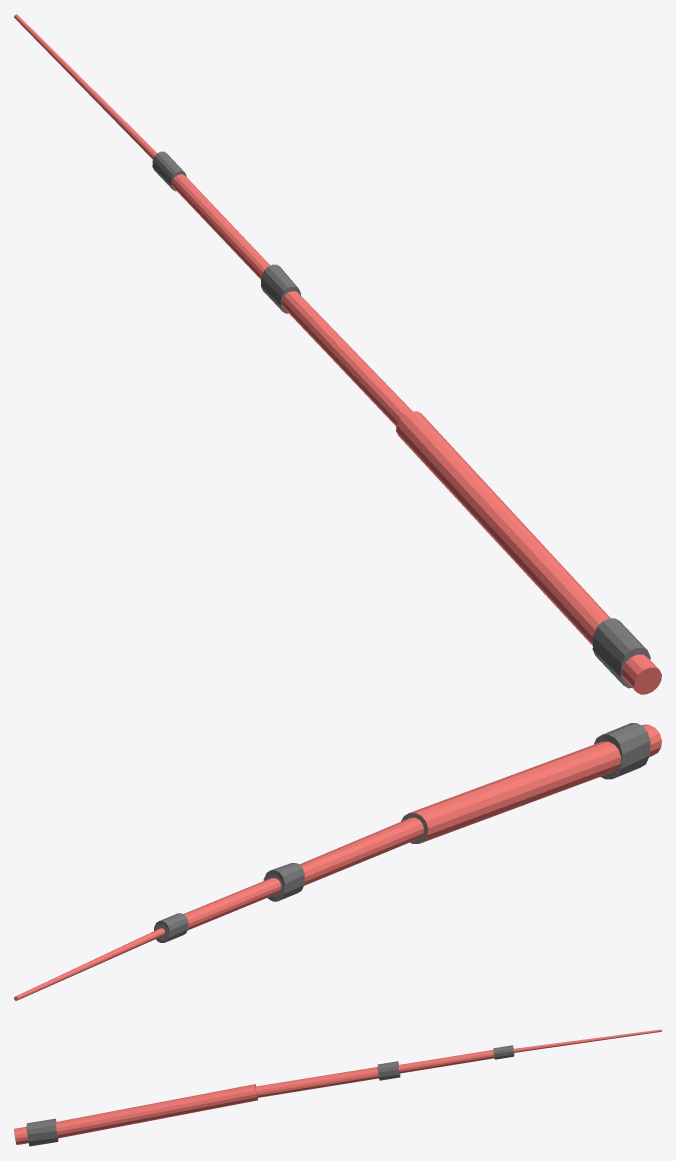
File: FishingRod4.2.glb
The picture shows the model from 3 angles, top to bottom: view 1: azimuth 30°, elevation 25°; view 2: azimuth 150°, elevation 25°; view 3: azimuth 270°, elevation 25°; orthographic projection. The views are drawn at different scales.
Parts seen in each view (by area): view 1: Pole; view 2: Pole; view 3: Pole.
Boxes of the visible parts, x1,y1,x2,y2 form: Pole: (14, 14, 661, 694); Pole: (14, 723, 661, 1000); Pole: (14, 1029, 661, 1146).
Size of the model in its own units: 0.1319 by 0.8889 by 4.52.
Materials: 2 (2 with a texture image).
